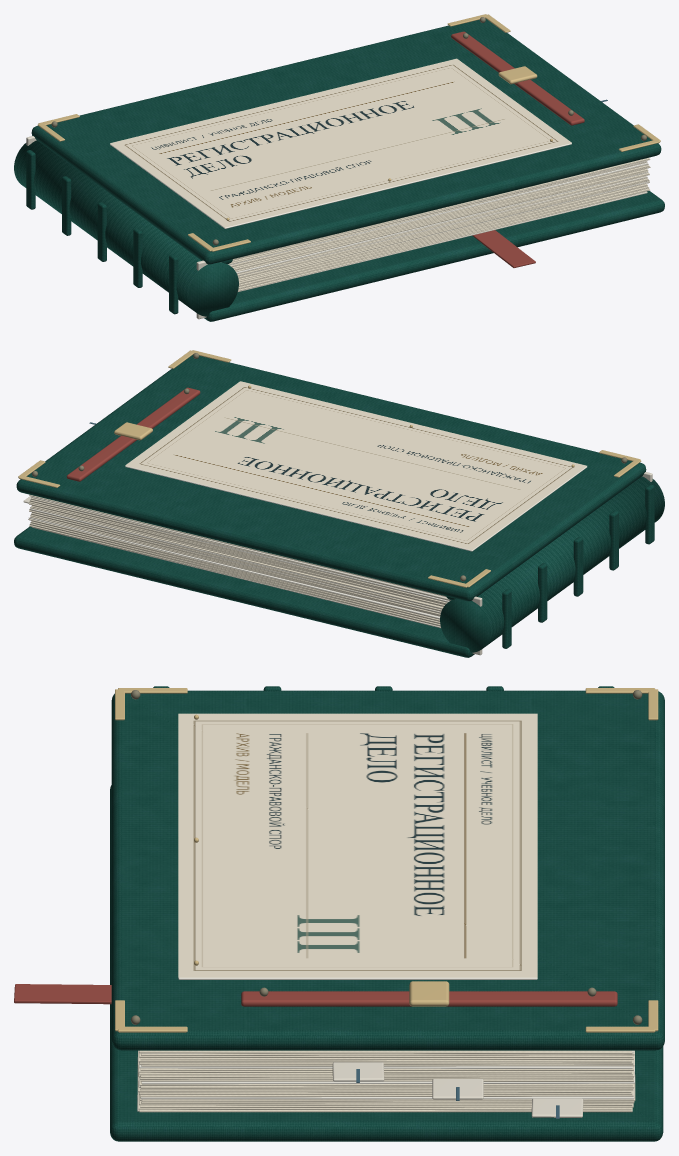
Rendered from archive-dossier.glb.
The picture shows the model from 3 angles, top to bottom: view 1: azimuth 30°, elevation 25°; view 2: azimuth 150°, elevation 25°; view 3: azimuth 270°, elevation 25°; orthographic projection. The views are drawn at different scales.
Parts seen in each view (by area): view 1: Top woven board, Printed archive label, Rounded cloth binding, Lower linen board, Closure strap, Exposed fabric marker, Label raised stock, Archival sheet 25, Archival sheet 29, Archival sheet 23, Archival sheet 28, Archival sheet 16 (+27 smaller); view 2: Top woven board, Printed archive label, Lower linen board, Rounded cloth binding, Closure strap, Archival sheet 27, Archival sheet 18, Archival sheet 09, Label raised stock, Archival sheet 26, Archival sheet 24, Archival sheet 22 (+28 smaller); view 3: Top woven board, Printed archive label, Lower linen board, Closure strap, Archival sheet 34, Exposed fabric marker, Archival sheet 29, Archival sheet 09, Archival sheet 12, Archival sheet 02, Archival sheet 08, Archival sheet 22 (+26 smaller).
Part boxes in pixels (box(x1,y1,x2,y2)): Top woven board: box(31, 18, 661, 264); Printed archive label: box(110, 58, 571, 227); Rounded cloth binding: box(14, 140, 238, 316); Lower linen board: box(204, 191, 664, 321); Closure strap: box(451, 31, 584, 125); Exposed fabric marker: box(472, 230, 535, 267); Label raised stock: box(110, 143, 571, 228); Archival sheet 25: box(229, 162, 647, 265); Archival sheet 29: box(232, 157, 649, 260); Archival sheet 23: box(231, 165, 648, 267); Archival sheet 28: box(231, 159, 650, 262); Archival sheet 16: box(237, 173, 649, 274); Top woven board: box(16, 354, 646, 601); Printed archive label: box(125, 381, 586, 549); Lower linen board: box(14, 526, 474, 657); Rounded cloth binding: box(440, 476, 664, 652); Closure strap: box(66, 387, 200, 481); Archival sheet 27: box(31, 496, 450, 600); Archival sheet 18: box(30, 507, 443, 608); Archival sheet 09: box(29, 517, 439, 618); Label raised stock: box(125, 466, 586, 551); Archival sheet 26: box(31, 498, 449, 600); Archival sheet 24: box(30, 500, 447, 602); Archival sheet 22: box(29, 501, 445, 604); Top woven board: box(111, 690, 664, 1050); Printed archive label: box(178, 713, 537, 977); Lower linen board: box(110, 785, 663, 1141); Closure strap: box(241, 991, 617, 1006); Archival sheet 34: box(139, 1050, 632, 1054); Exposed fabric marker: box(14, 984, 111, 1004); Archival sheet 29: box(138, 1051, 631, 1062); Archival sheet 09: box(140, 1088, 634, 1099); Archival sheet 12: box(138, 1051, 631, 1092); Archival sheet 02: box(139, 1107, 632, 1112); Archival sheet 08: box(142, 1075, 635, 1101); Archival sheet 22: box(139, 1071, 632, 1075).
Size of the model in its own units: 3.15 by 0.4695 by 2.28.
Materials: 9 (3 with a texture image).
